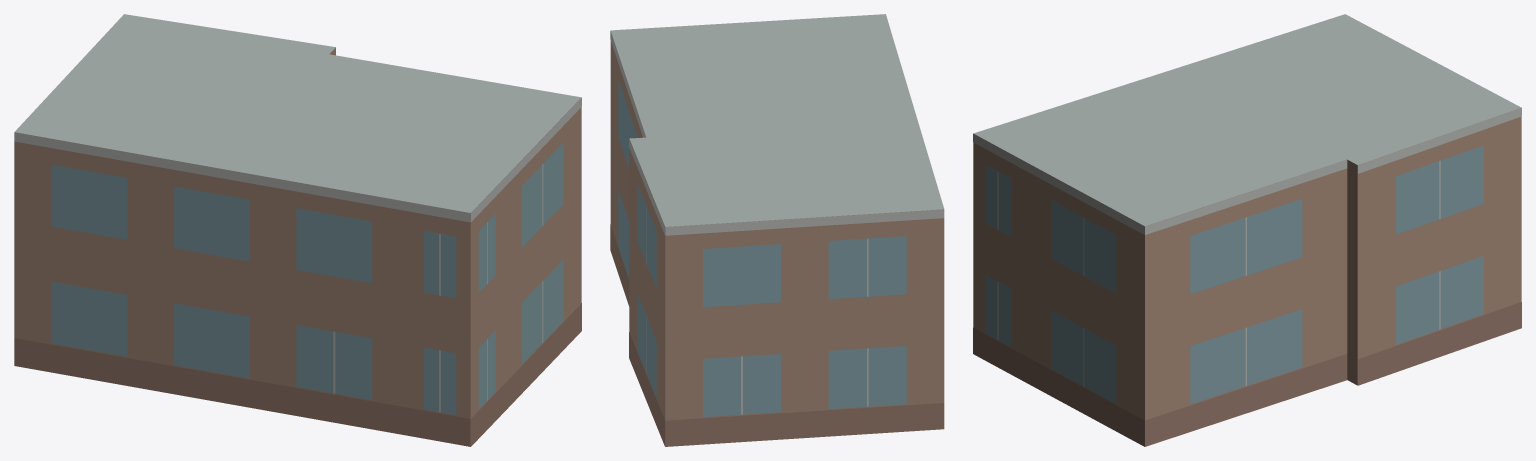
Rendered from survey-upis-32490888.glb.
3 renders of one model, left to right at view 1: azimuth 30°, elevation 25°; view 2: azimuth 150°, elevation 25°; view 3: azimuth 270°, elevation 25°, orthographic. The views are drawn at different scales.
Visible parts, largest first — view 1: survey-upis-32490888.tmp; view 2: survey-upis-32490888.tmp; view 3: survey-upis-32490888.tmp.
Part boxes in pixels (x1,y1,x2,y2): survey-upis-32490888.tmp: (14, 14, 581, 446); survey-upis-32490888.tmp: (610, 14, 944, 446); survey-upis-32490888.tmp: (973, 14, 1521, 446).
Bounding box in the file's own units: 12.6 × 6.1 × 13.76.
